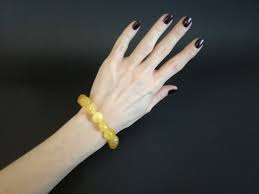hand: (81, 6, 207, 141)
